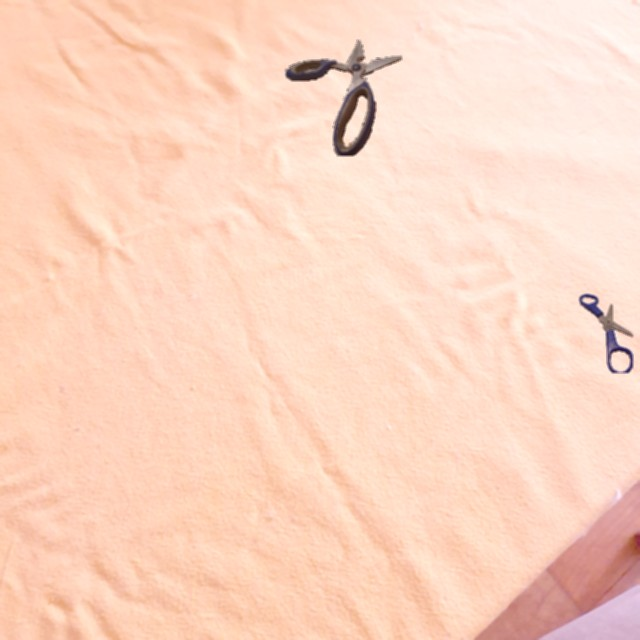scissors: (285, 40, 402, 156), (579, 294, 633, 373)
